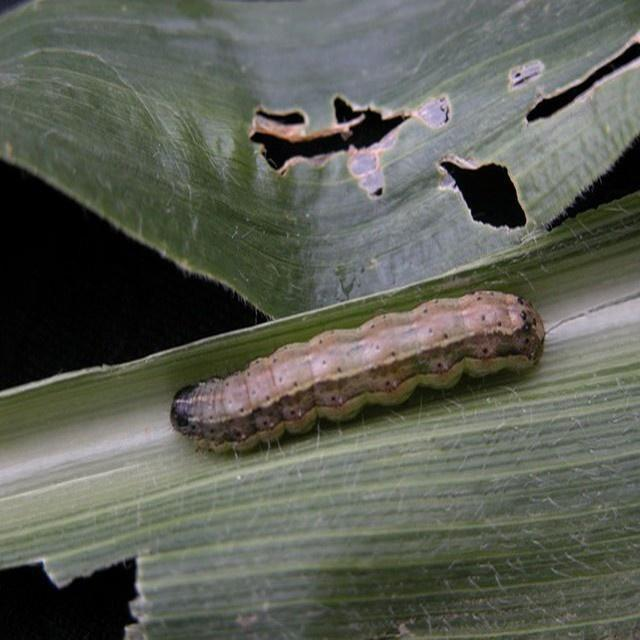gusano_cogollero: (162, 282, 548, 463)
